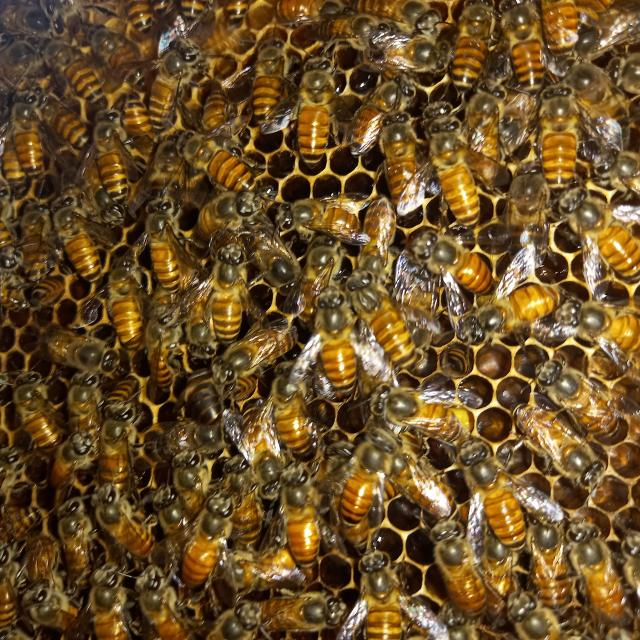honeybee: (462, 442, 530, 555), (532, 363, 635, 433), (359, 52, 416, 176), (565, 188, 640, 277), (542, 283, 640, 351), (463, 280, 563, 340), (370, 368, 460, 434), (178, 129, 259, 201), (524, 492, 570, 618), (514, 414, 596, 481), (334, 429, 393, 522), (276, 466, 327, 570), (384, 101, 428, 220), (296, 49, 340, 162), (430, 117, 475, 226), (349, 268, 398, 368), (437, 524, 490, 616), (496, 0, 550, 89), (106, 252, 155, 350), (92, 483, 154, 560), (255, 592, 354, 640), (355, 549, 407, 640), (413, 233, 493, 292), (142, 191, 190, 289), (50, 192, 104, 275), (582, 516, 624, 620), (270, 360, 315, 448), (283, 193, 369, 239), (225, 450, 265, 548), (148, 311, 194, 396), (497, 586, 568, 640), (250, 32, 292, 122), (543, 85, 580, 184), (210, 252, 248, 348), (84, 559, 129, 640), (90, 117, 135, 198), (313, 289, 351, 384), (48, 324, 116, 377), (450, 0, 486, 98), (156, 36, 196, 123), (186, 495, 223, 588), (398, 446, 453, 508), (47, 36, 99, 101), (223, 554, 313, 591), (544, 0, 590, 72), (13, 367, 56, 443), (240, 323, 297, 380), (351, 192, 393, 268), (142, 566, 184, 640), (195, 68, 237, 141), (174, 368, 222, 431), (9, 88, 48, 158), (52, 427, 96, 488), (56, 498, 87, 582), (26, 590, 79, 639), (0, 499, 52, 548), (0, 239, 32, 311), (100, 430, 140, 486), (106, 381, 148, 433), (122, 70, 151, 142), (353, 0, 438, 23), (209, 602, 258, 640), (268, 0, 348, 23), (110, 0, 161, 36), (0, 572, 17, 630), (174, 0, 208, 27), (225, 0, 251, 31)
